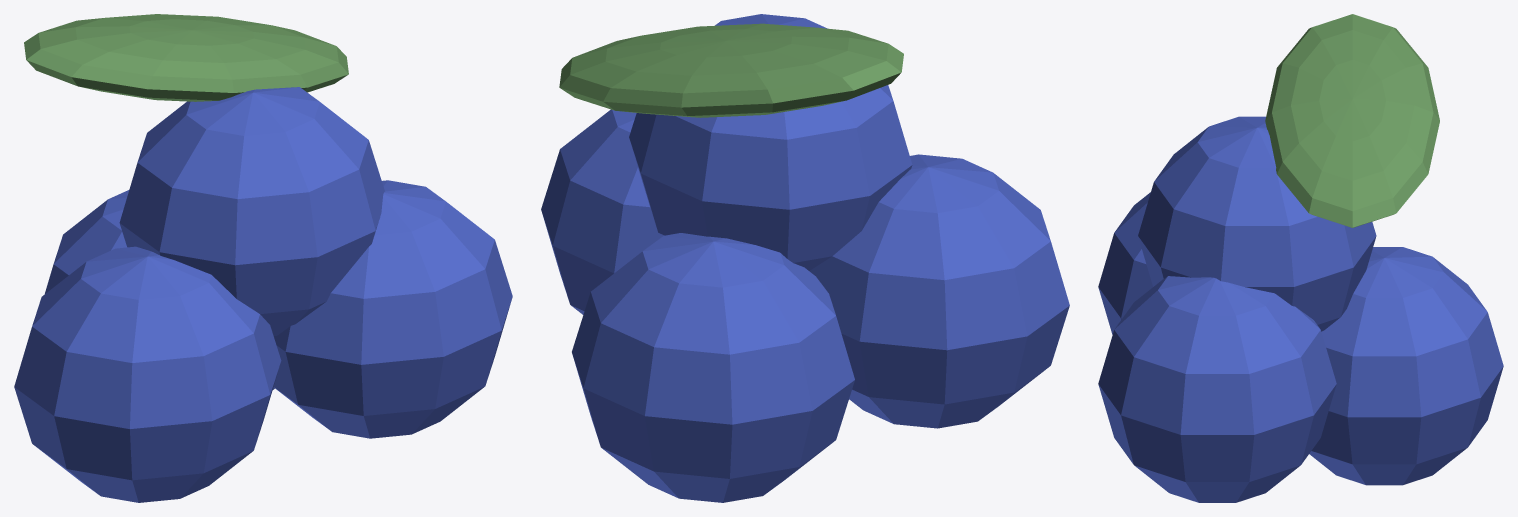
The model's file is berry.glb.
3 views of the same model, side by side, from view 1: azimuth 30°, elevation 25°; view 2: azimuth 150°, elevation 25°; view 3: azimuth 270°, elevation 25° (orthographic). The views are drawn at different scales.
Parts seen in each view (by area): view 1: Icon_Sphere.001, Icon_Sphere.004, Icon_Sphere.002, Icon_Sphere, Icon_Sphere.003; view 2: Icon_Sphere.003, Icon_Sphere.001, Icon_Sphere.004, Icon_Sphere, Icon_Sphere.002; view 3: Icon_Sphere.002, Icon_Sphere.003, Icon_Sphere, Icon_Sphere.004, Icon_Sphere.001.
Boxes of the visible parts, bbox=[...] form: Icon_Sphere.001: bbox=[14, 246, 281, 502]; Icon_Sphere.004: bbox=[119, 87, 384, 335]; Icon_Sphere.002: bbox=[273, 180, 512, 438]; Icon_Sphere: bbox=[24, 14, 348, 101]; Icon_Sphere.003: bbox=[45, 190, 274, 389]; Icon_Sphere.003: bbox=[572, 233, 854, 502]; Icon_Sphere.001: bbox=[809, 154, 1069, 428]; Icon_Sphere.004: bbox=[629, 14, 912, 270]; Icon_Sphere: bbox=[559, 23, 903, 117]; Icon_Sphere.002: bbox=[541, 109, 662, 314]; Icon_Sphere.002: bbox=[1098, 276, 1336, 502]; Icon_Sphere.003: bbox=[1309, 247, 1503, 485]; Icon_Sphere: bbox=[1265, 14, 1439, 227]; Icon_Sphere.004: bbox=[1138, 116, 1376, 331]; Icon_Sphere.001: bbox=[1098, 192, 1152, 334].
Size of the model in its own units: 0.6143 by 0.5481 by 0.51.
